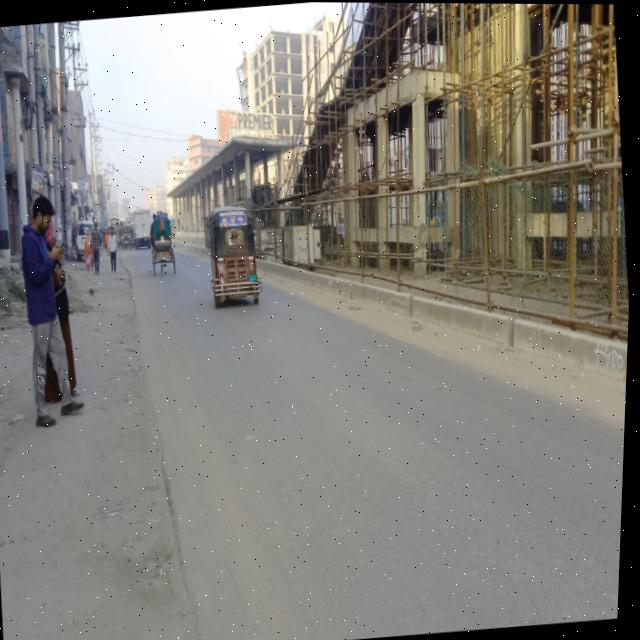cng: (200, 190, 273, 324)
rikshaw: (139, 188, 200, 321)
